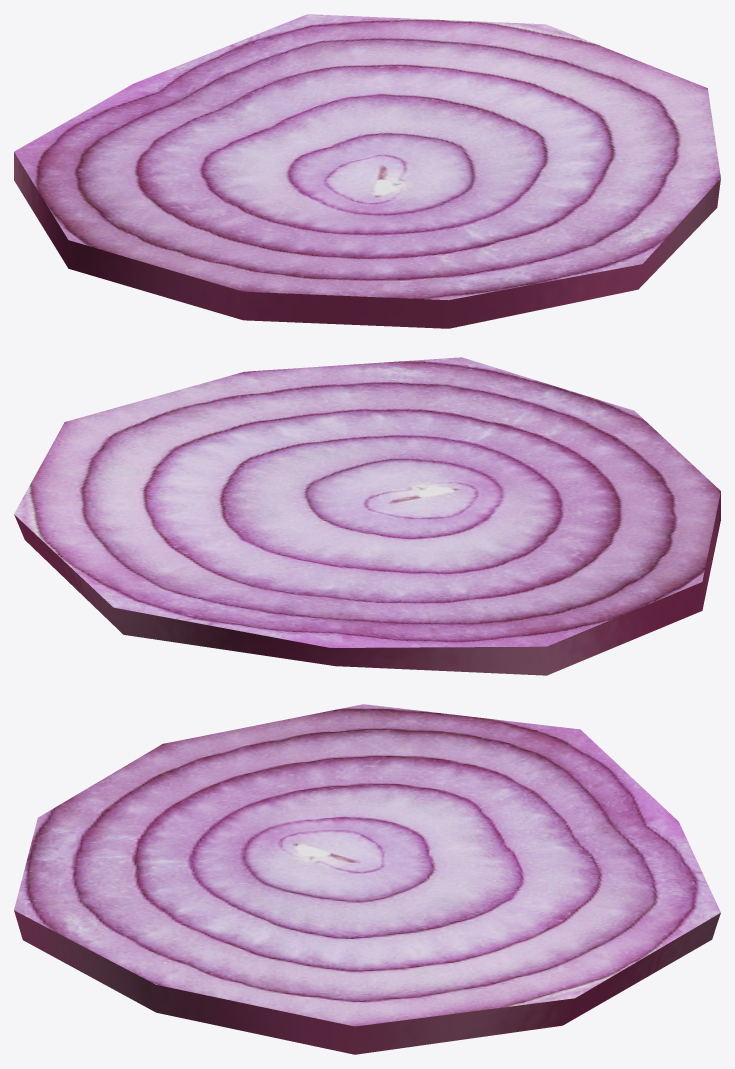
The model's file is onion.FBX.
The picture shows the model from 3 angles, top to bottom: view 1: azimuth 30°, elevation 25°; view 2: azimuth 150°, elevation 25°; view 3: azimuth 270°, elevation 25°; orthographic projection. The views are drawn at different scales.
Parts seen in each view (by area): view 1: onion_LOD00; view 2: onion_LOD00; view 3: onion_LOD00.
Part boxes in pixels (x1=…): onion_LOD00: x1=14, y1=14, x2=720, y2=328; onion_LOD00: x1=14, y1=357, x2=720, y2=675; onion_LOD00: x1=14, y1=704, x2=720, y2=1054.
Size of what is drawn, in the model's own units: 6.26 by 0.2698 by 5.8.
Materials: 1 (1 with a texture image).
